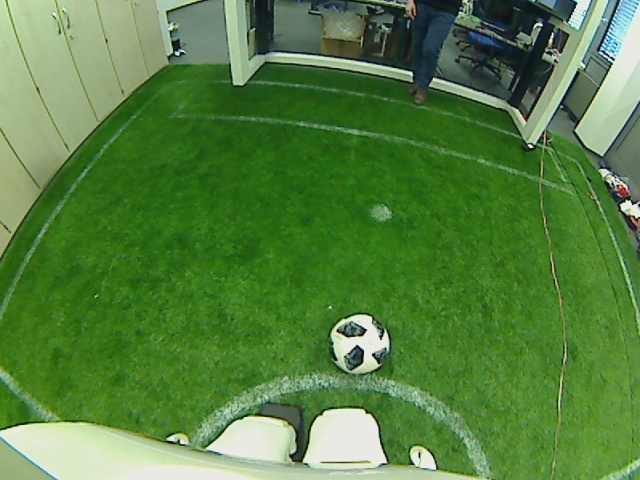ball: (326, 309, 391, 376)
